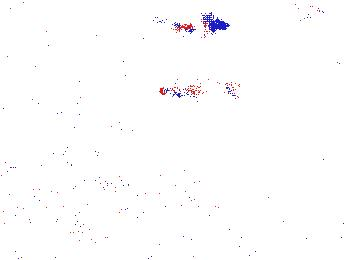X-ray fish: (288, 1, 334, 28)
red belly glassfish: (157, 17, 198, 35)
redtail glassfish: (159, 77, 239, 103)
